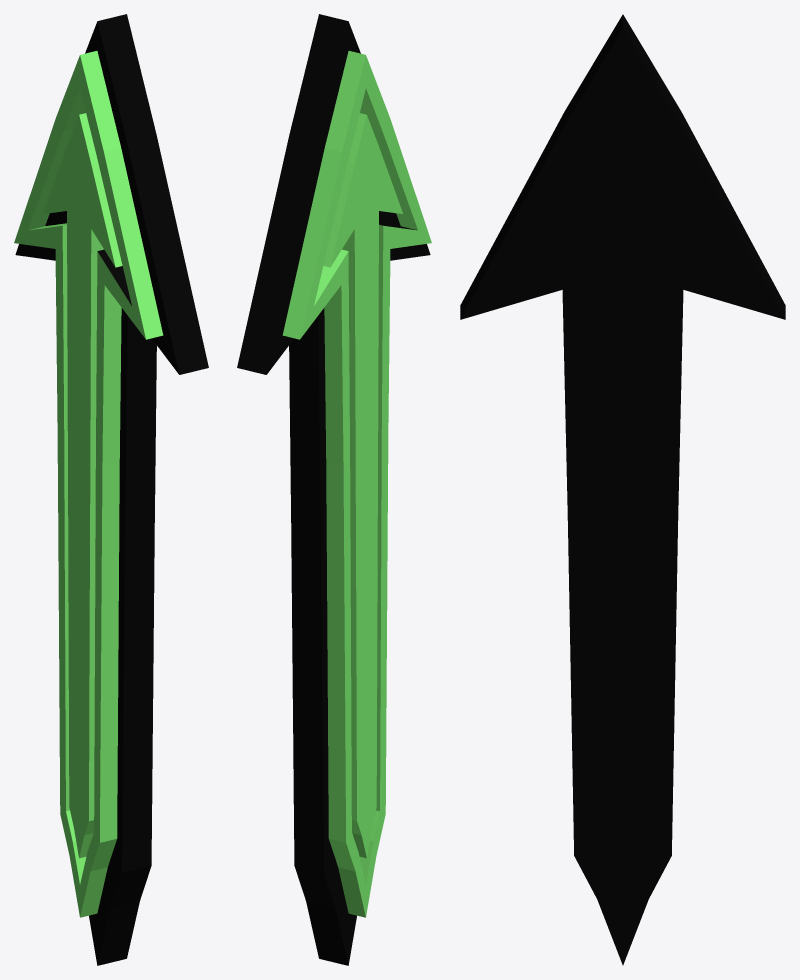
The model's file is arrow.obj.
3 renders of one model, left to right at view 1: azimuth 30°, elevation 25°; view 2: azimuth 150°, elevation 25°; view 3: azimuth 270°, elevation 25°, orthographic.
Visible parts, largest first — view 1: arrow; view 2: arrow; view 3: arrow.
Part boxes in pixels (box(x1,y1,x2,y2)): arrow: box(14, 14, 208, 965); arrow: box(237, 14, 431, 965); arrow: box(460, 14, 785, 965).
Bounding box in the file's own units: 0.0906 × 1.71 × 0.538.
Materials: 1 (1 with a texture image).
